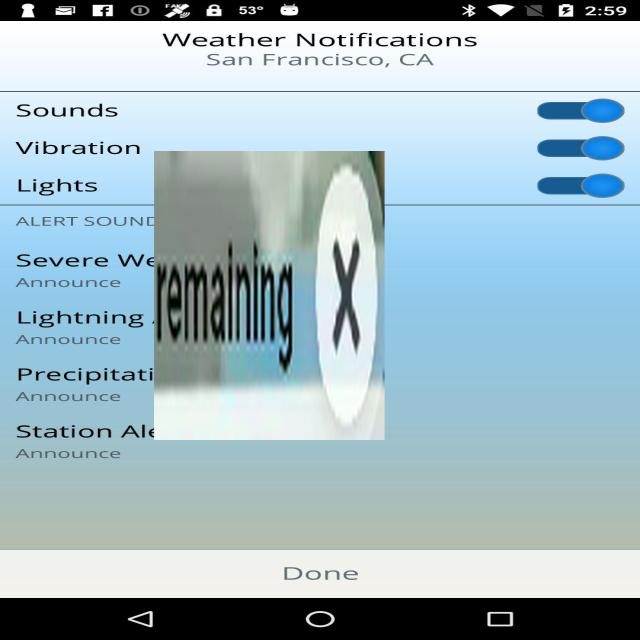misdirection: (154, 151, 385, 440)
